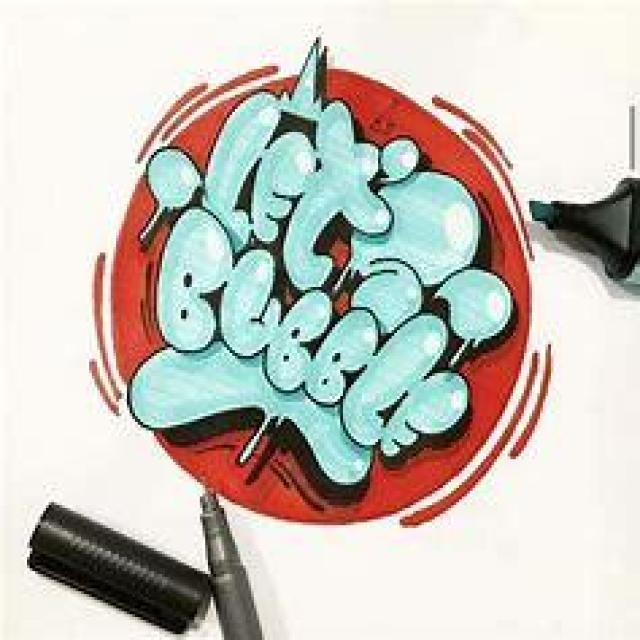nonspitting: (86, 31, 557, 532)
